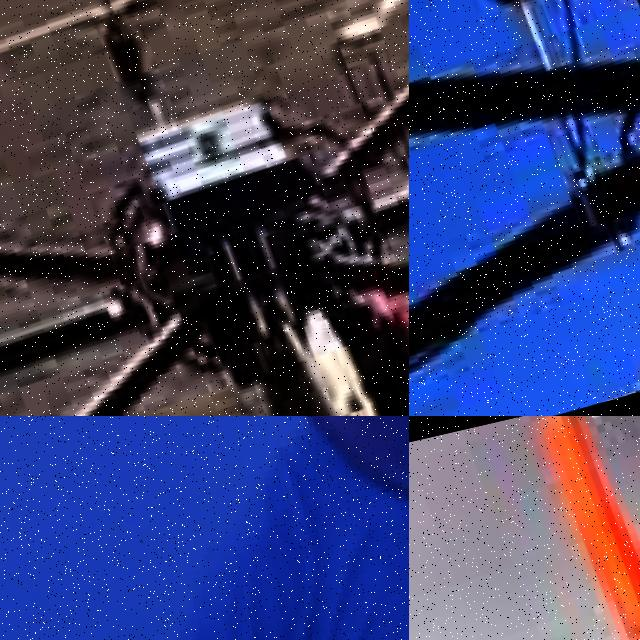drone: (0, 0, 409, 416), (409, 0, 640, 416), (409, 416, 640, 640)
